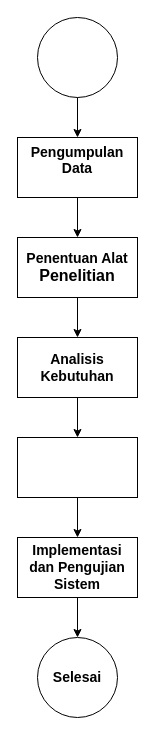
This 155x735 diagram has some shape labels left out. The centre of each missing label's shape, as x and y in pixels:
Bangun Design: (77,467)
MULAI: (77,57)
